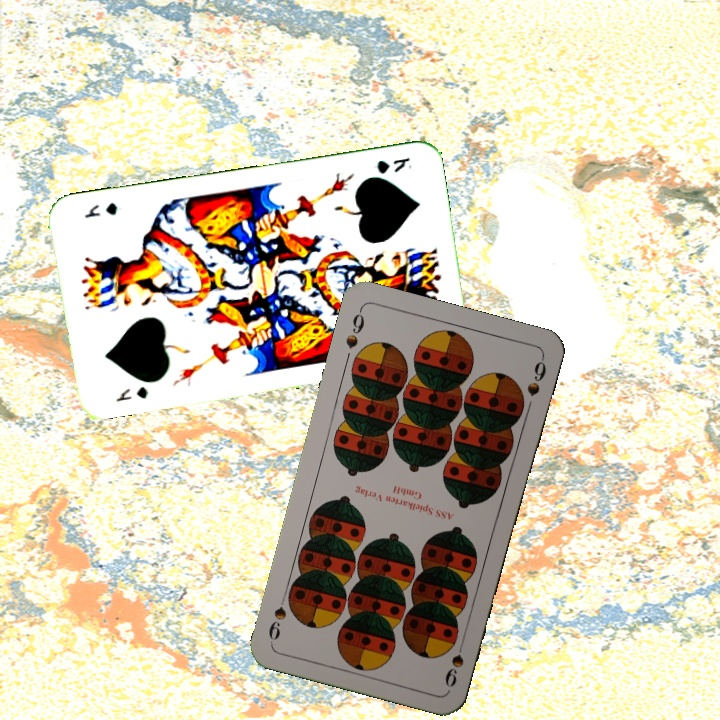GK: (373, 153, 415, 177), (112, 382, 150, 405)
S9: (341, 305, 367, 351), (441, 646, 466, 690)
